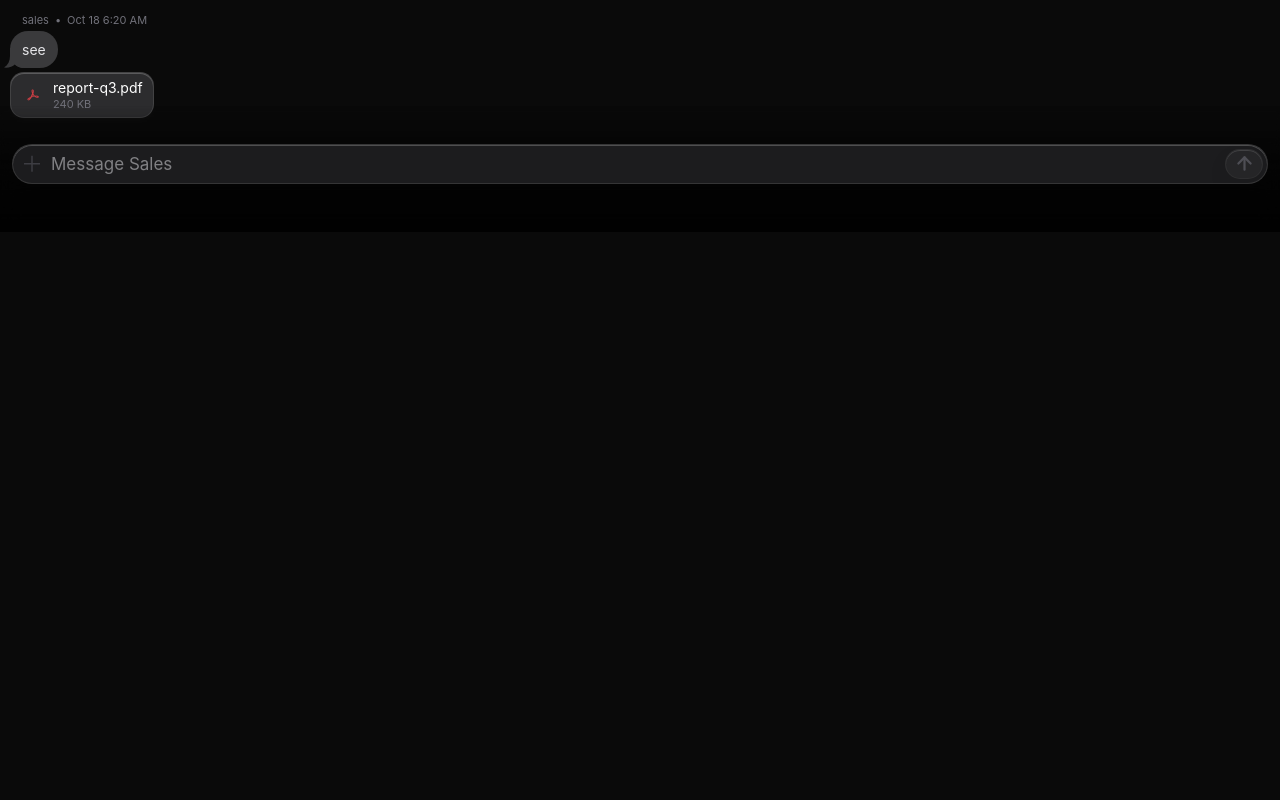
Test: open › a guest without file rights: the not-shared note, the chip unchanged
The image size is (1280, 800).
Click the button with test id "thread-file": click(82, 94) top-left (10, 72), bottom-right (154, 118)
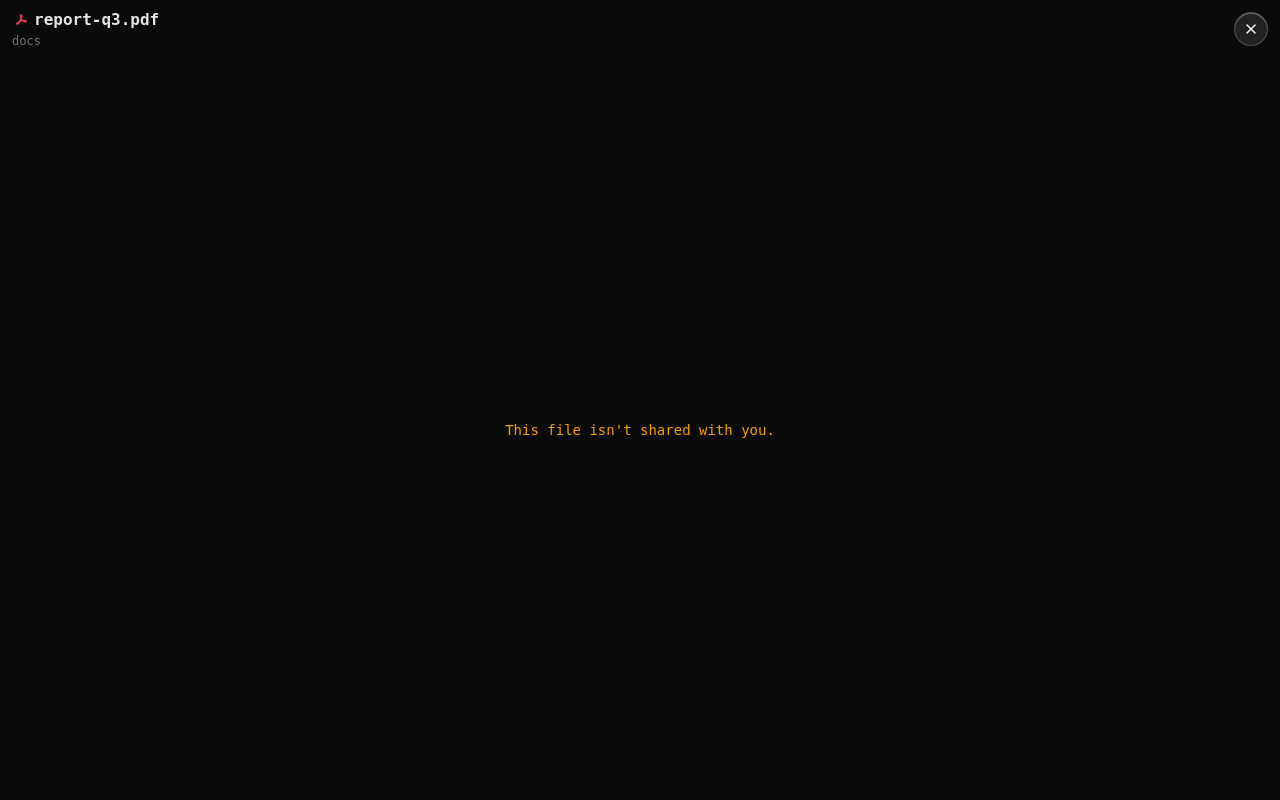
expect the element with test id "attachment-error" shows "isn't shared with you": met, box top-left (505, 422), bottom-right (775, 438)
